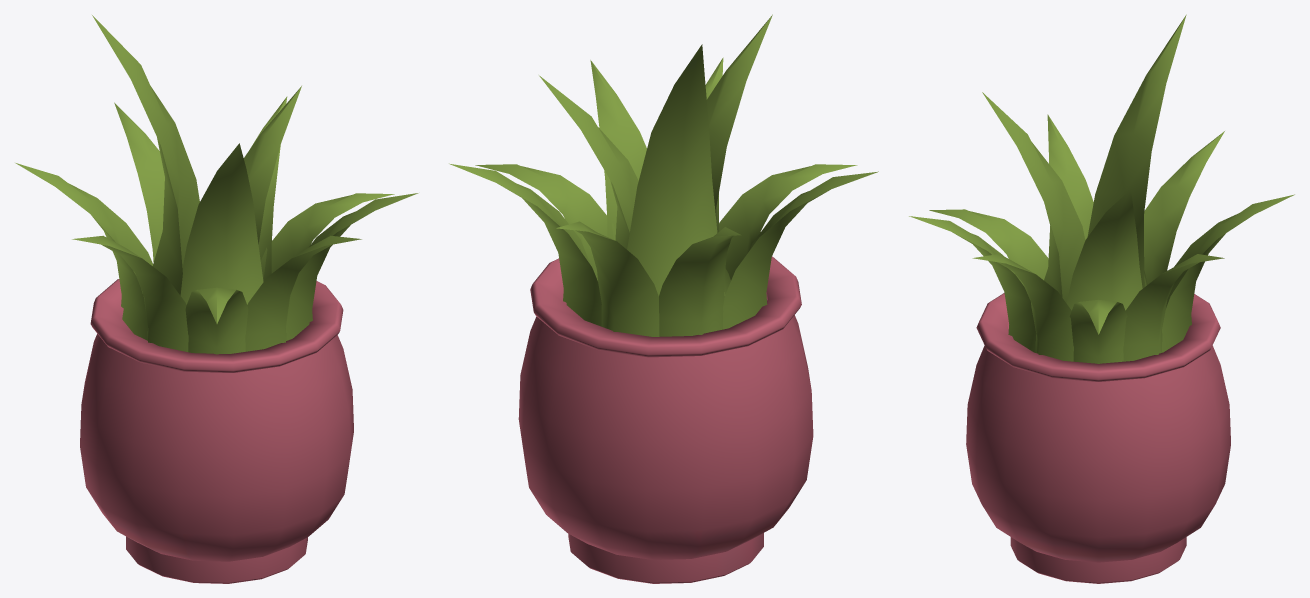
The model's file is SHAVR_SET_POTTEDPLANT.fbx.
3 renders of one model, left to right at view 1: azimuth 30°, elevation 25°; view 2: azimuth 150°, elevation 25°; view 3: azimuth 270°, elevation 25°, orthographic. The views are drawn at different scales.
Visible parts, largest first — view 1: SHAVR_SET_POTTEDPLANT; view 2: SHAVR_SET_POTTEDPLANT; view 3: SHAVR_SET_POTTEDPLANT.
Boxes of the visible parts, box(x1,y1,x2,y2) form: SHAVR_SET_POTTEDPLANT: box(15, 15, 418, 583); SHAVR_SET_POTTEDPLANT: box(449, 14, 878, 583); SHAVR_SET_POTTEDPLANT: box(909, 14, 1294, 583).
Bounding box in the file's own units: 0.3508 × 0.4959 × 0.3508.
